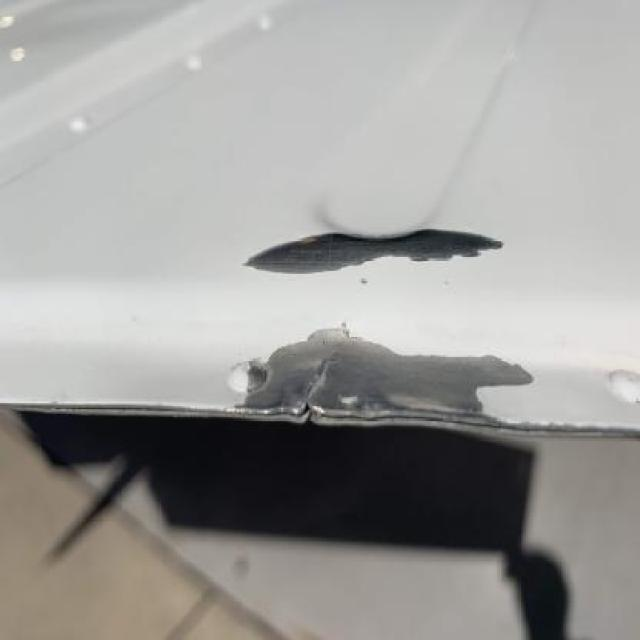crack: (291, 344, 346, 432)
